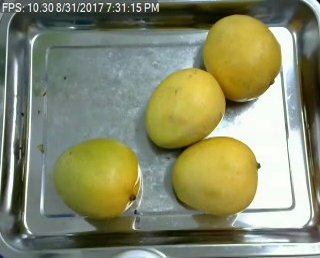Mango: (54, 137, 141, 219), (203, 15, 281, 102), (171, 136, 257, 214), (145, 69, 225, 147)
